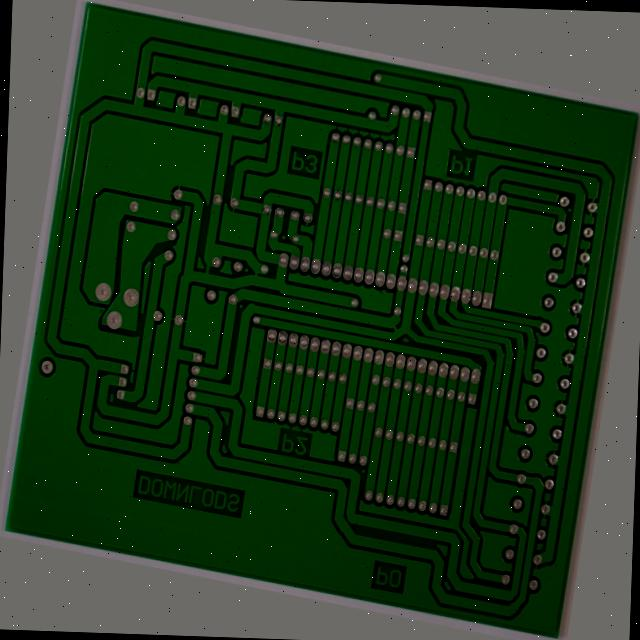short: (391, 298, 414, 326), (232, 265, 255, 289)
